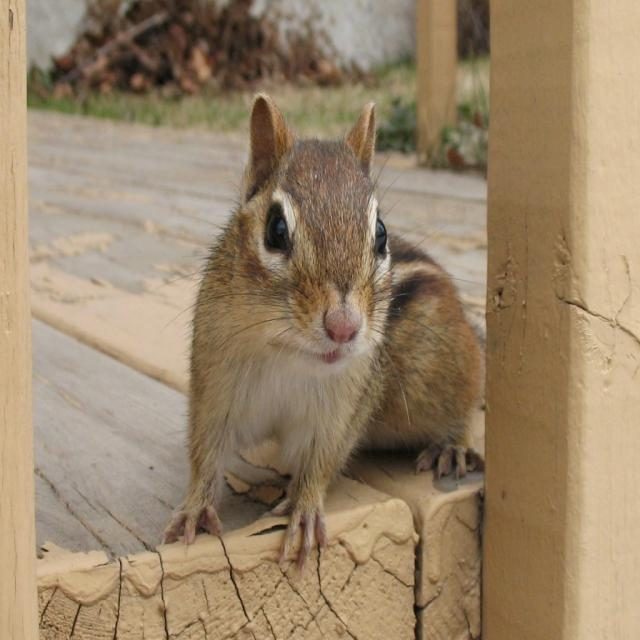rat: (163, 92, 480, 566)
